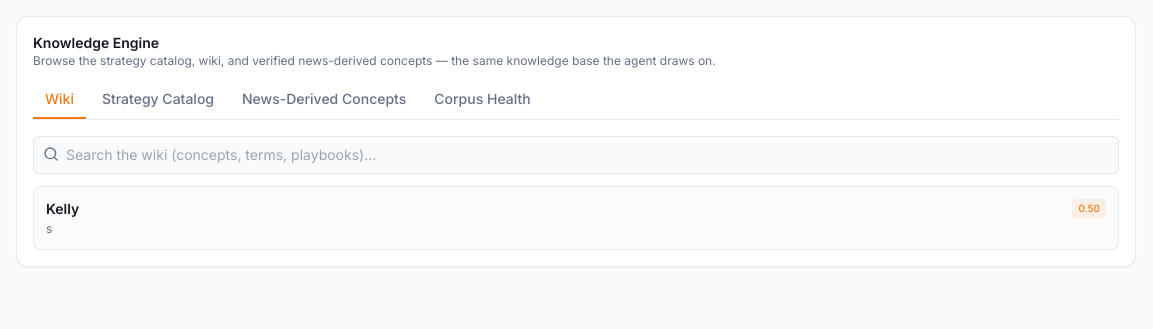
KnowledgeEngine wiki tab › a failed page load is shown and retried on the next open, never cached as the page
Click the text "Kelly": x=63, y=209 [46,199,79,219]
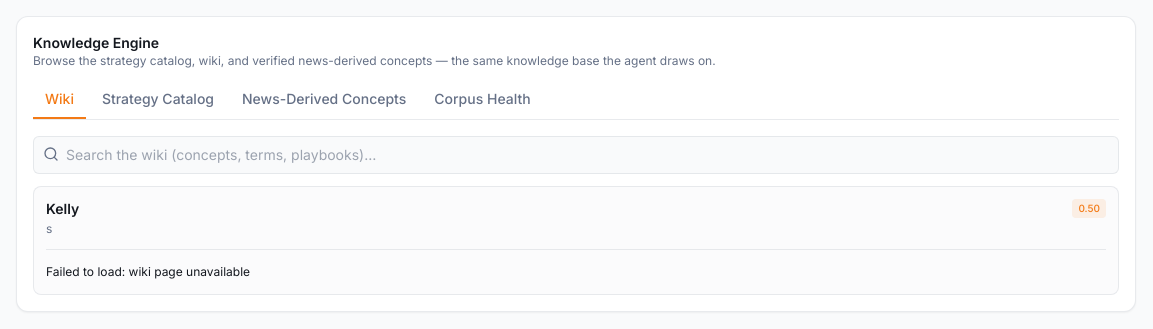
Expected: the text "Failed to load: wiki page unavailable" is shown, [46,264,250,279]
Click the text "Kelly": x=63, y=209 [46,199,79,219]
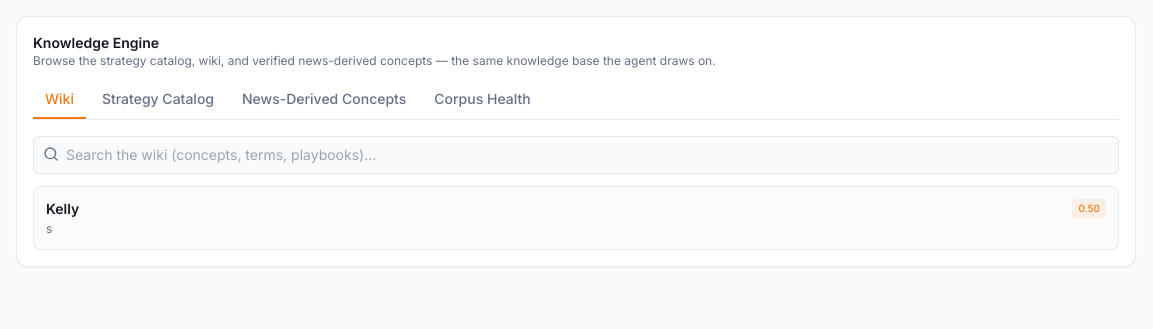
Click the text "Kelly": x=63, y=209 [46,199,79,219]
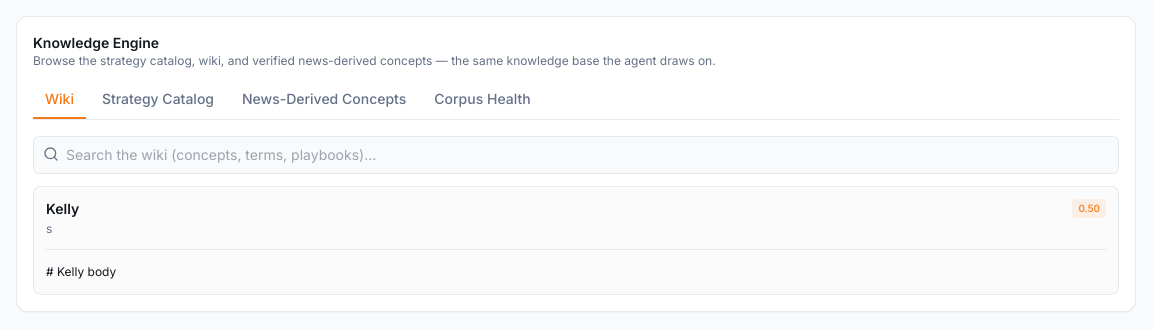
Expected: the text "# Kelly body" is shown, [46,264,116,279]
